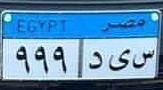9: (52, 43, 70, 76), (13, 42, 31, 75), (33, 44, 49, 76)
daal: (86, 48, 103, 72)
seen: (132, 47, 156, 74)
yaa: (106, 46, 131, 75)
